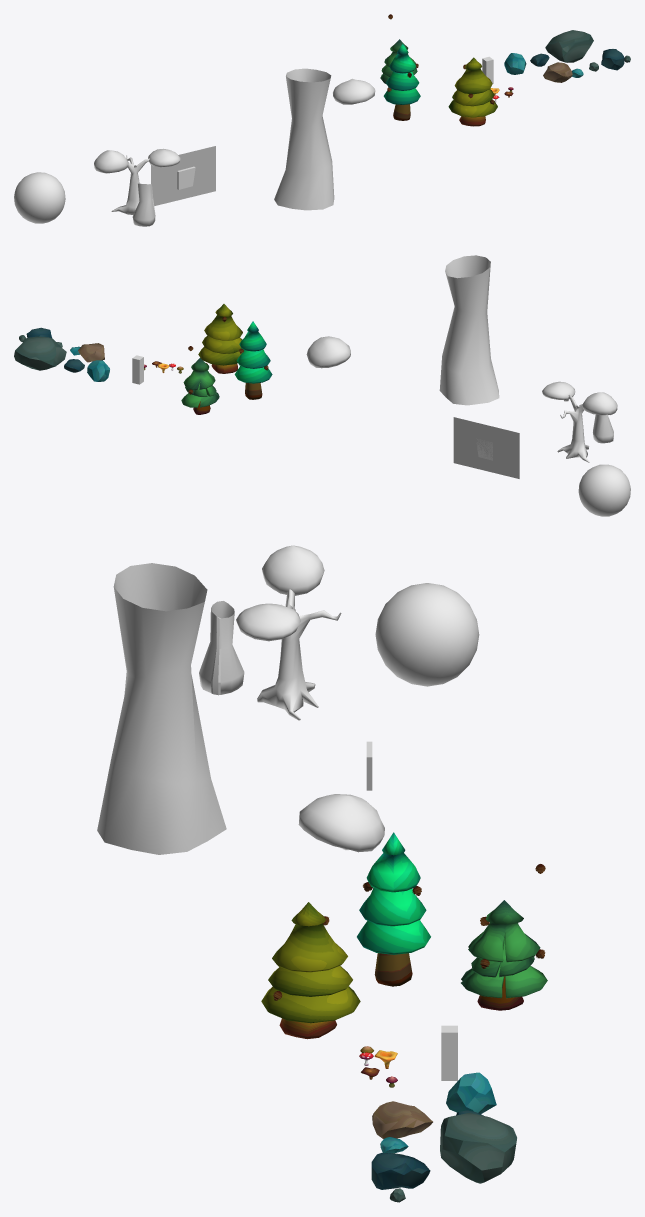
The model's file is Sieni_Rousku.FBX.
The picture shows the model from 3 angles, top to bottom: view 1: azimuth 30°, elevation 25°; view 2: azimuth 150°, elevation 25°; view 3: azimuth 270°, elevation 25°; orthographic projection. The views are drawn at different scales.
Parts seen in each view (by area): view 1: Tree_StylizedTree, AutoSide_Plane, Rock_BaseForThingies, Tree_Spruce, Tree_Spruce2, Rock_4_Big, Object001, Tree_LeafTree, Tree_Oak, Box002, Object002, Rock_3_Big (+4 smaller); view 2: Tree_StylizedTree, AutoSide_Plane, Rock_BaseForThingies, Tree_Spruce, Tree_Spruce2, Tree_Spruce3, Rock_4_Big, Object001, Tree_Oak, Box002, Tree_LeafTree, Object002 (+2 smaller); view 3: Tree_StylizedTree, Rock_BaseForThingies, Tree_Spruce, Tree_Spruce2, Tree_Spruce3, Rock_4_Big, Object001, Tree_Oak, Tree_LeafTree, Box002, Object002, Rock_5_Big (+3 smaller).
Part boxes in pixels (left/top/right/bottom): Tree_StylizedTree: left=274, top=68, right=334, bottom=210; AutoSide_Plane: left=151, top=146, right=215, bottom=205; Rock_BaseForThingies: left=14, top=172, right=65, bottom=223; Tree_Spruce: left=448, top=57, right=497, bottom=126; Tree_Spruce2: left=383, top=43, right=420, bottom=120; Rock_4_Big: left=545, top=30, right=593, bottom=62; Object001: left=333, top=78, right=375, bottom=104; Tree_LeafTree: left=132, top=183, right=155, bottom=226; Tree_Oak: left=111, top=155, right=155, bottom=214; Box002: left=94, top=150, right=128, bottom=173; Object002: left=148, top=148, right=180, bottom=167; Rock_3_Big: left=543, top=62, right=572, bottom=82; Tree_StylizedTree: left=439, top=255, right=499, bottom=405; AutoSide_Plane: left=453, top=417, right=519, bottom=478; Rock_BaseForThingies: left=578, top=464, right=630, bottom=516; Tree_Spruce: left=198, top=304, right=242, bottom=373; Tree_Spruce2: left=234, top=321, right=272, bottom=399; Tree_Spruce3: left=181, top=358, right=219, bottom=414; Rock_4_Big: left=14, top=336, right=66, bottom=370; Object001: left=306, top=336, right=350, bottom=368; Tree_Oak: left=557, top=395, right=589, bottom=462; Box002: left=582, top=392, right=617, bottom=415; Tree_LeafTree: left=593, top=414, right=613, bottom=443; Object002: left=542, top=381, right=575, bottom=399; Tree_StylizedTree: left=97, top=563, right=226, bottom=854; Rock_BaseForThingies: left=375, top=583, right=479, bottom=686; Tree_Spruce: left=261, top=902, right=360, bottom=1039; Tree_Spruce2: left=357, top=832, right=430, bottom=986; Tree_Spruce3: left=461, top=900, right=547, bottom=1010; Rock_4_Big: left=440, top=1113, right=516, bottom=1183; Object001: left=298, top=794, right=384, bottom=852; Tree_Oak: left=257, top=589, right=341, bottom=720; Tree_LeafTree: left=199, top=601, right=244, bottom=695; Box002: left=262, top=545, right=324, bottom=595; Object002: left=236, top=603, right=300, bottom=641; Rock_5_Big: left=371, top=1152, right=430, bottom=1189.
Bounding box in the file's own units: 4195 × 984 × 1351.
